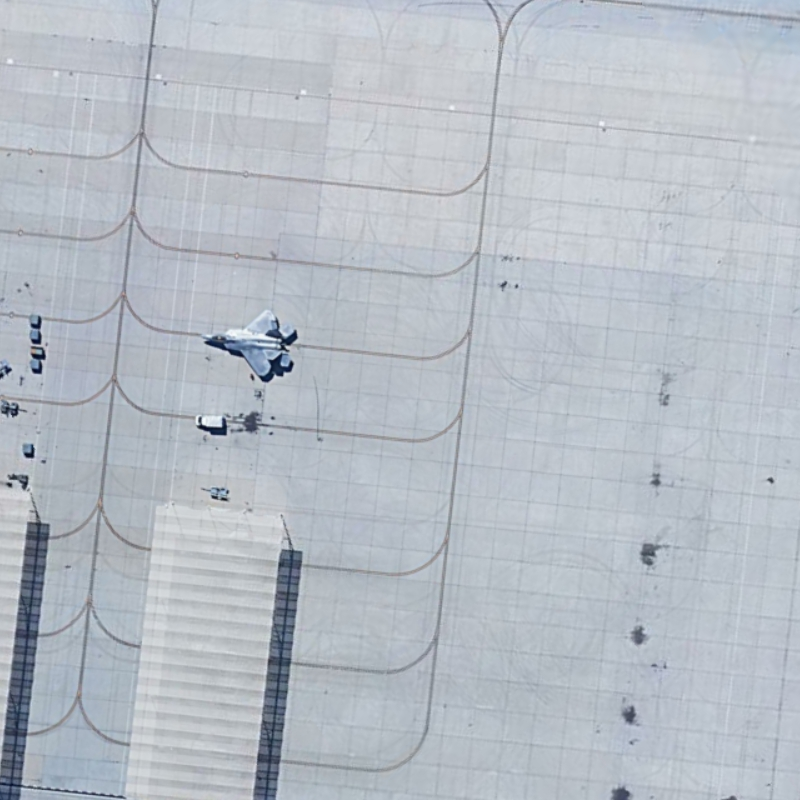A15: (198, 306, 302, 386)
